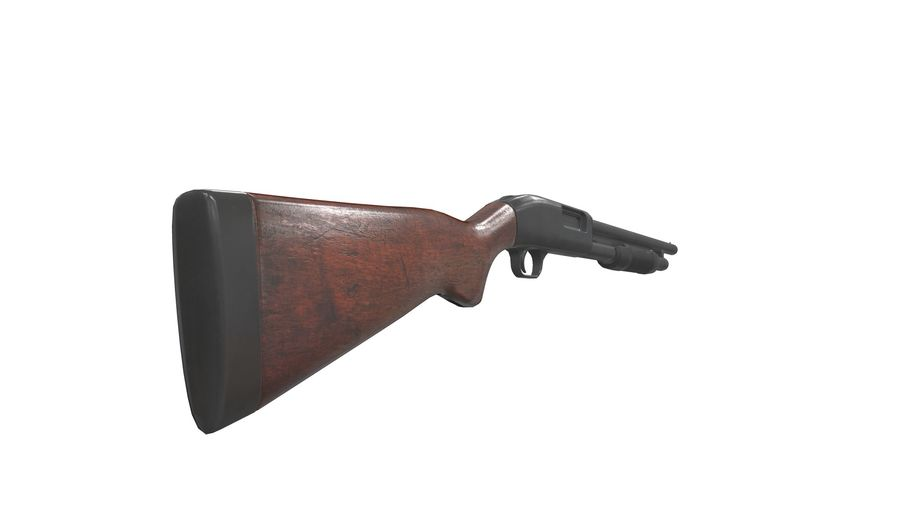weapon: (170, 188, 681, 436)
